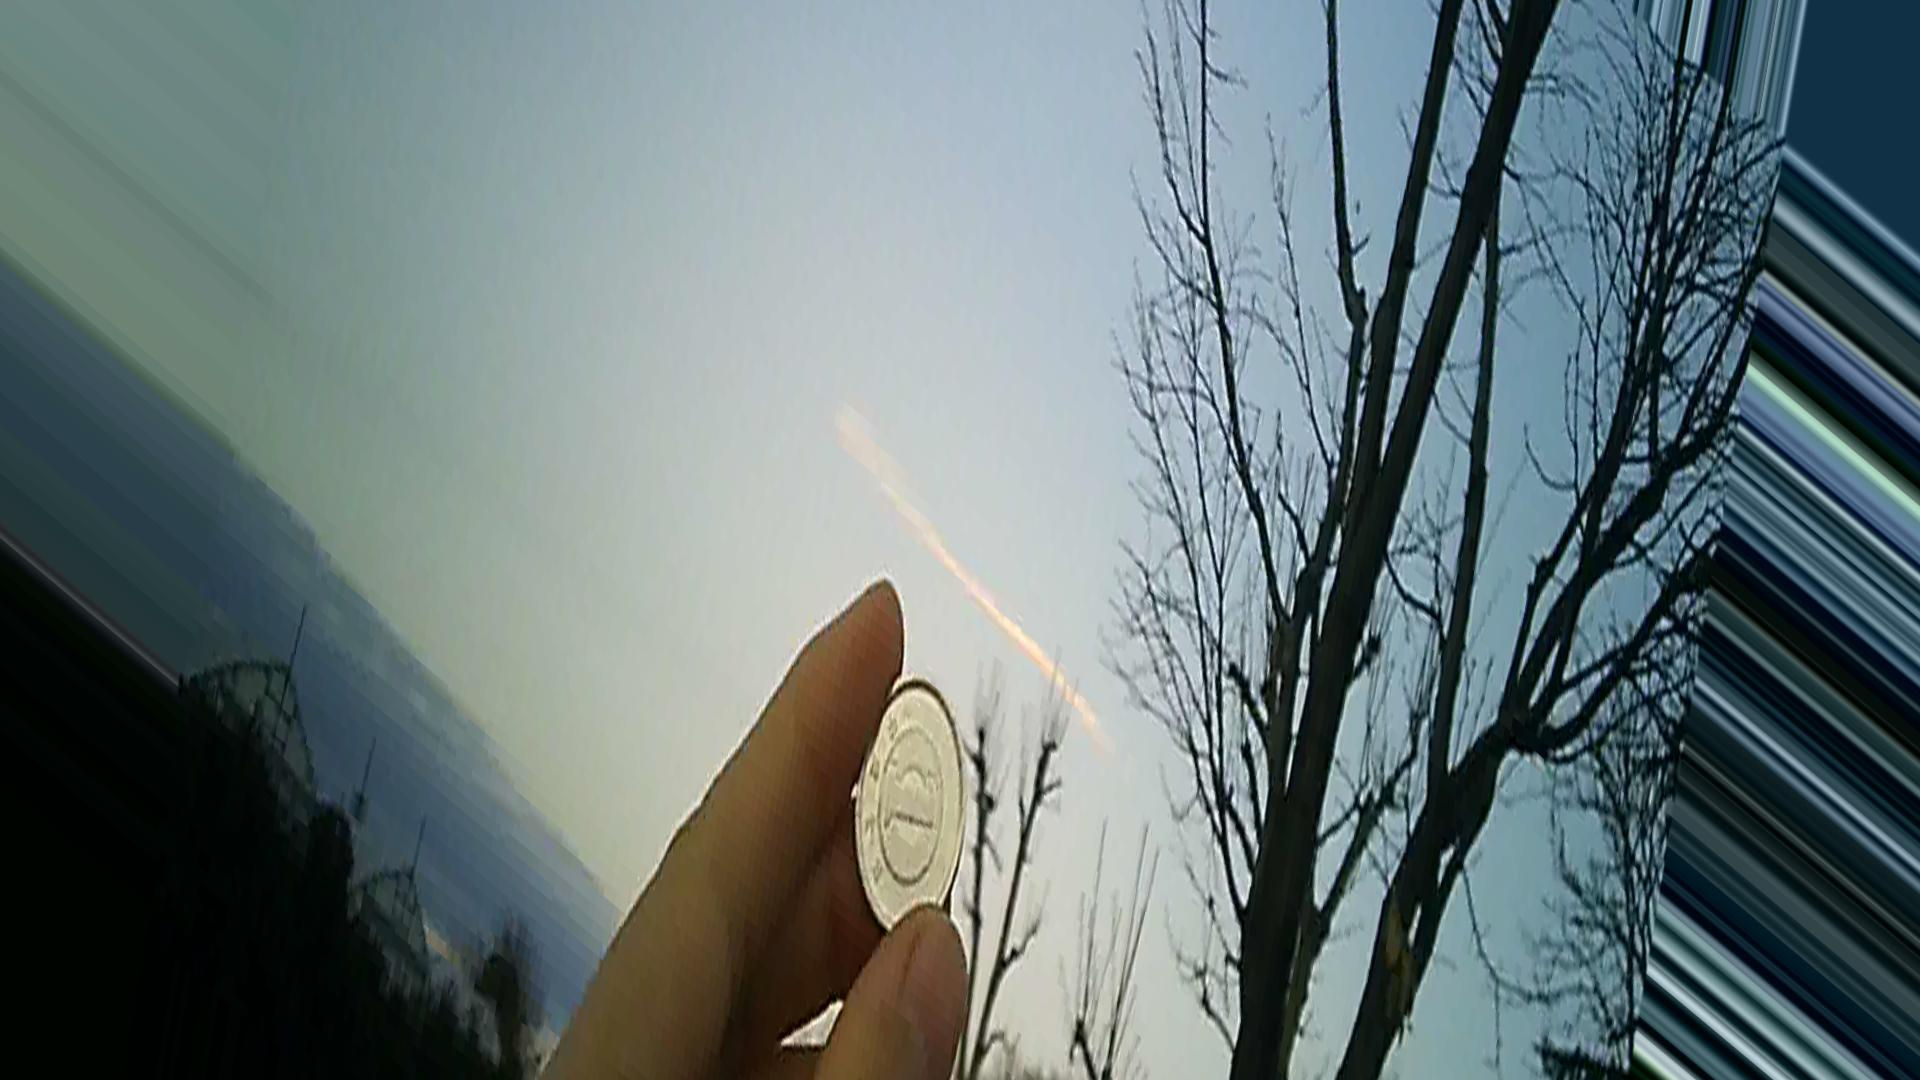1 Yen: (844, 666, 967, 930)
